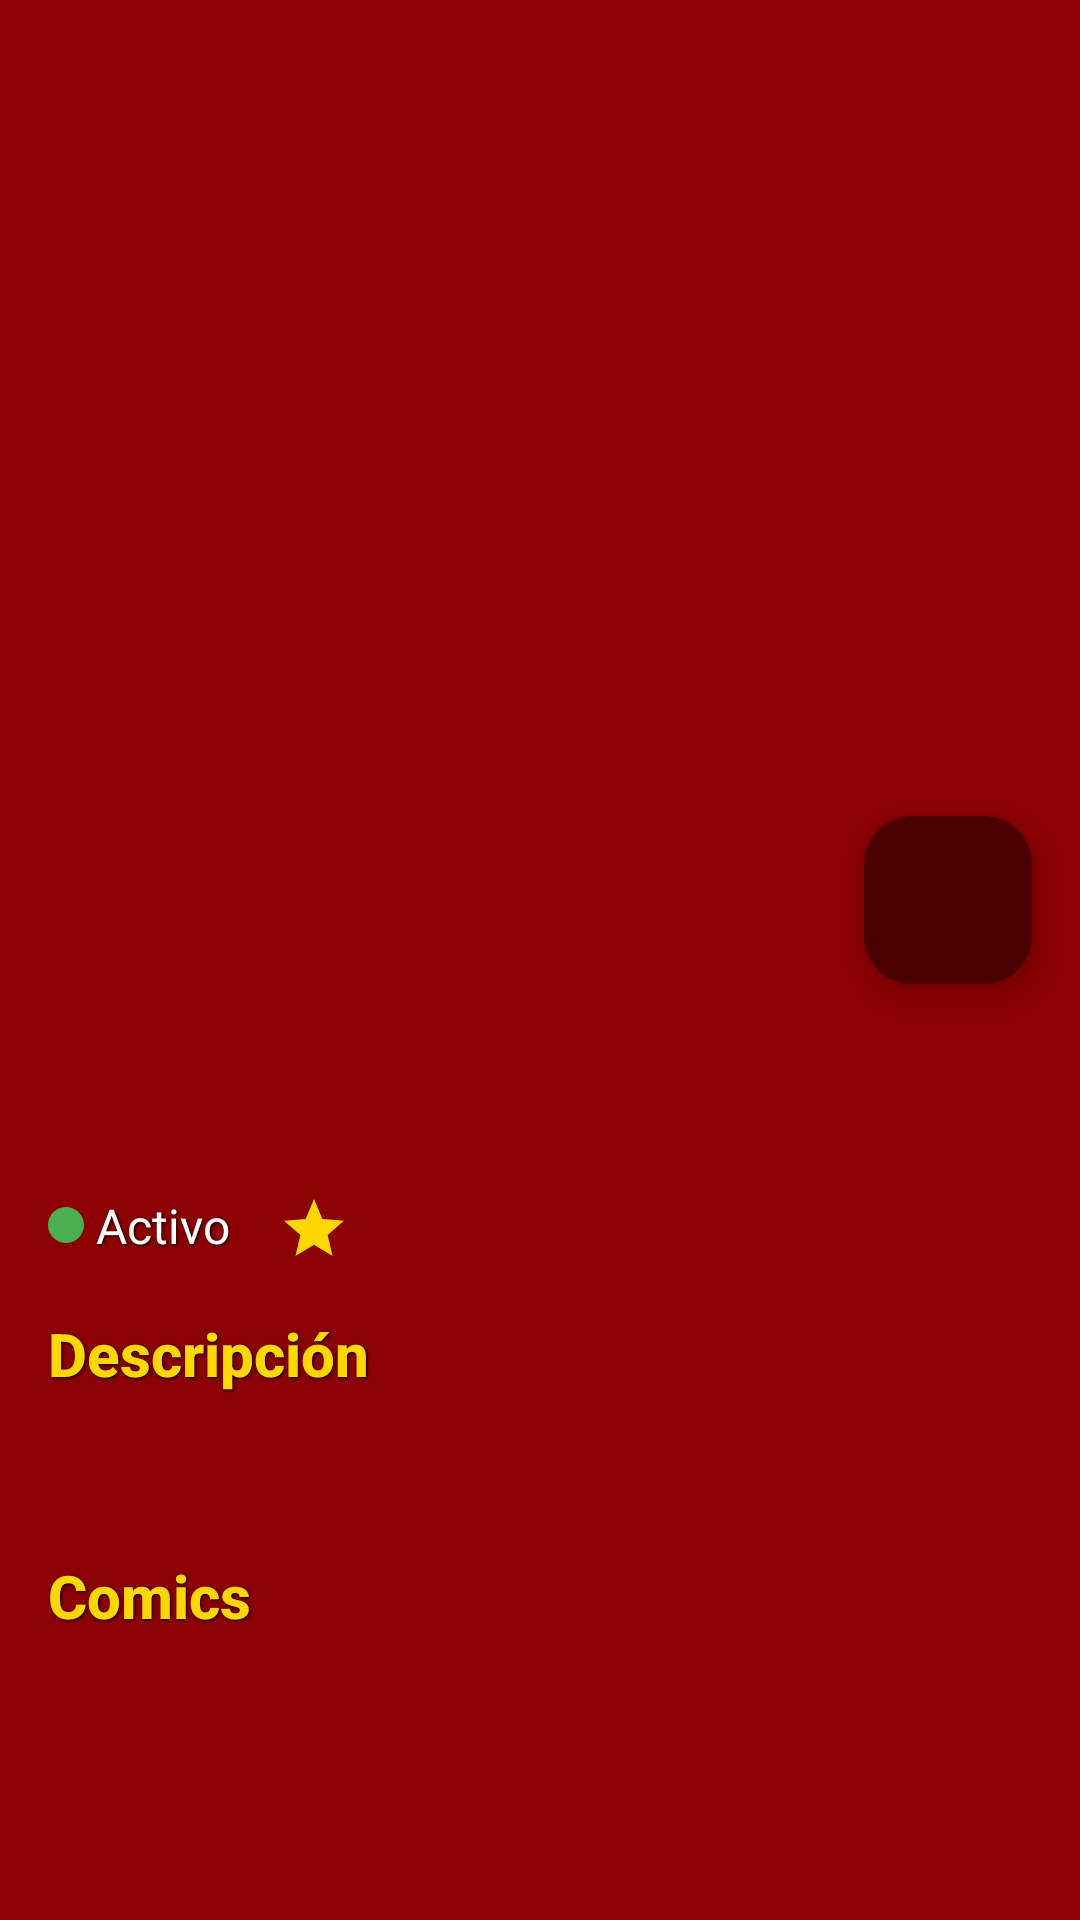

Icons on this 1080px x 1920px Android screen, each with the point to tap as (x=x, y=y):
star: (x=314, y=1227)
